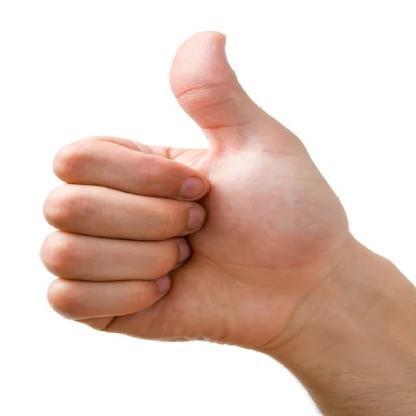thumb_up: (40, 23, 353, 346)
